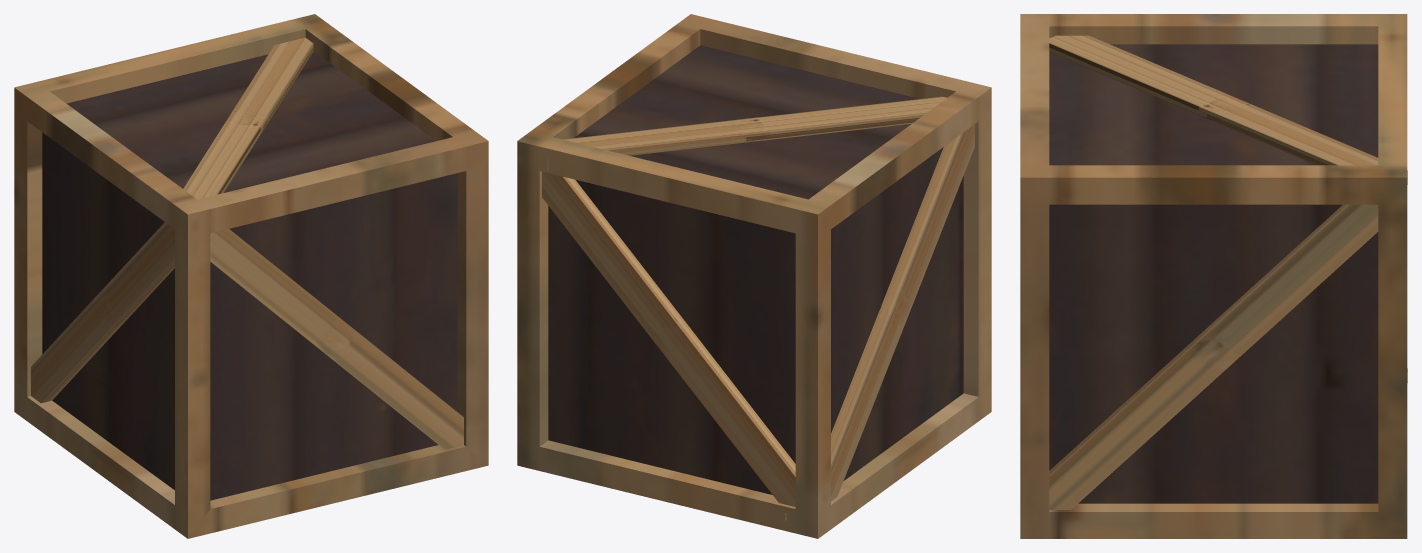
File: the box3.fbx
The picture shows the model from 3 angles, left to right: view 1: azimuth 30°, elevation 25°; view 2: azimuth 150°, elevation 25°; view 3: azimuth 270°, elevation 25°; orthographic projection. The views are drawn at different scales.
Visible parts, largest first — view 1: Cube.007; view 2: Cube.007; view 3: Cube.007.
Part boxes in pixels (x1,y1,x2,y2): Cube.007: (14,14,488,538); Cube.007: (517,14,991,538); Cube.007: (1020,14,1407,538).
Size of the model in its own units: 69.87 by 71.99 by 69.98.
